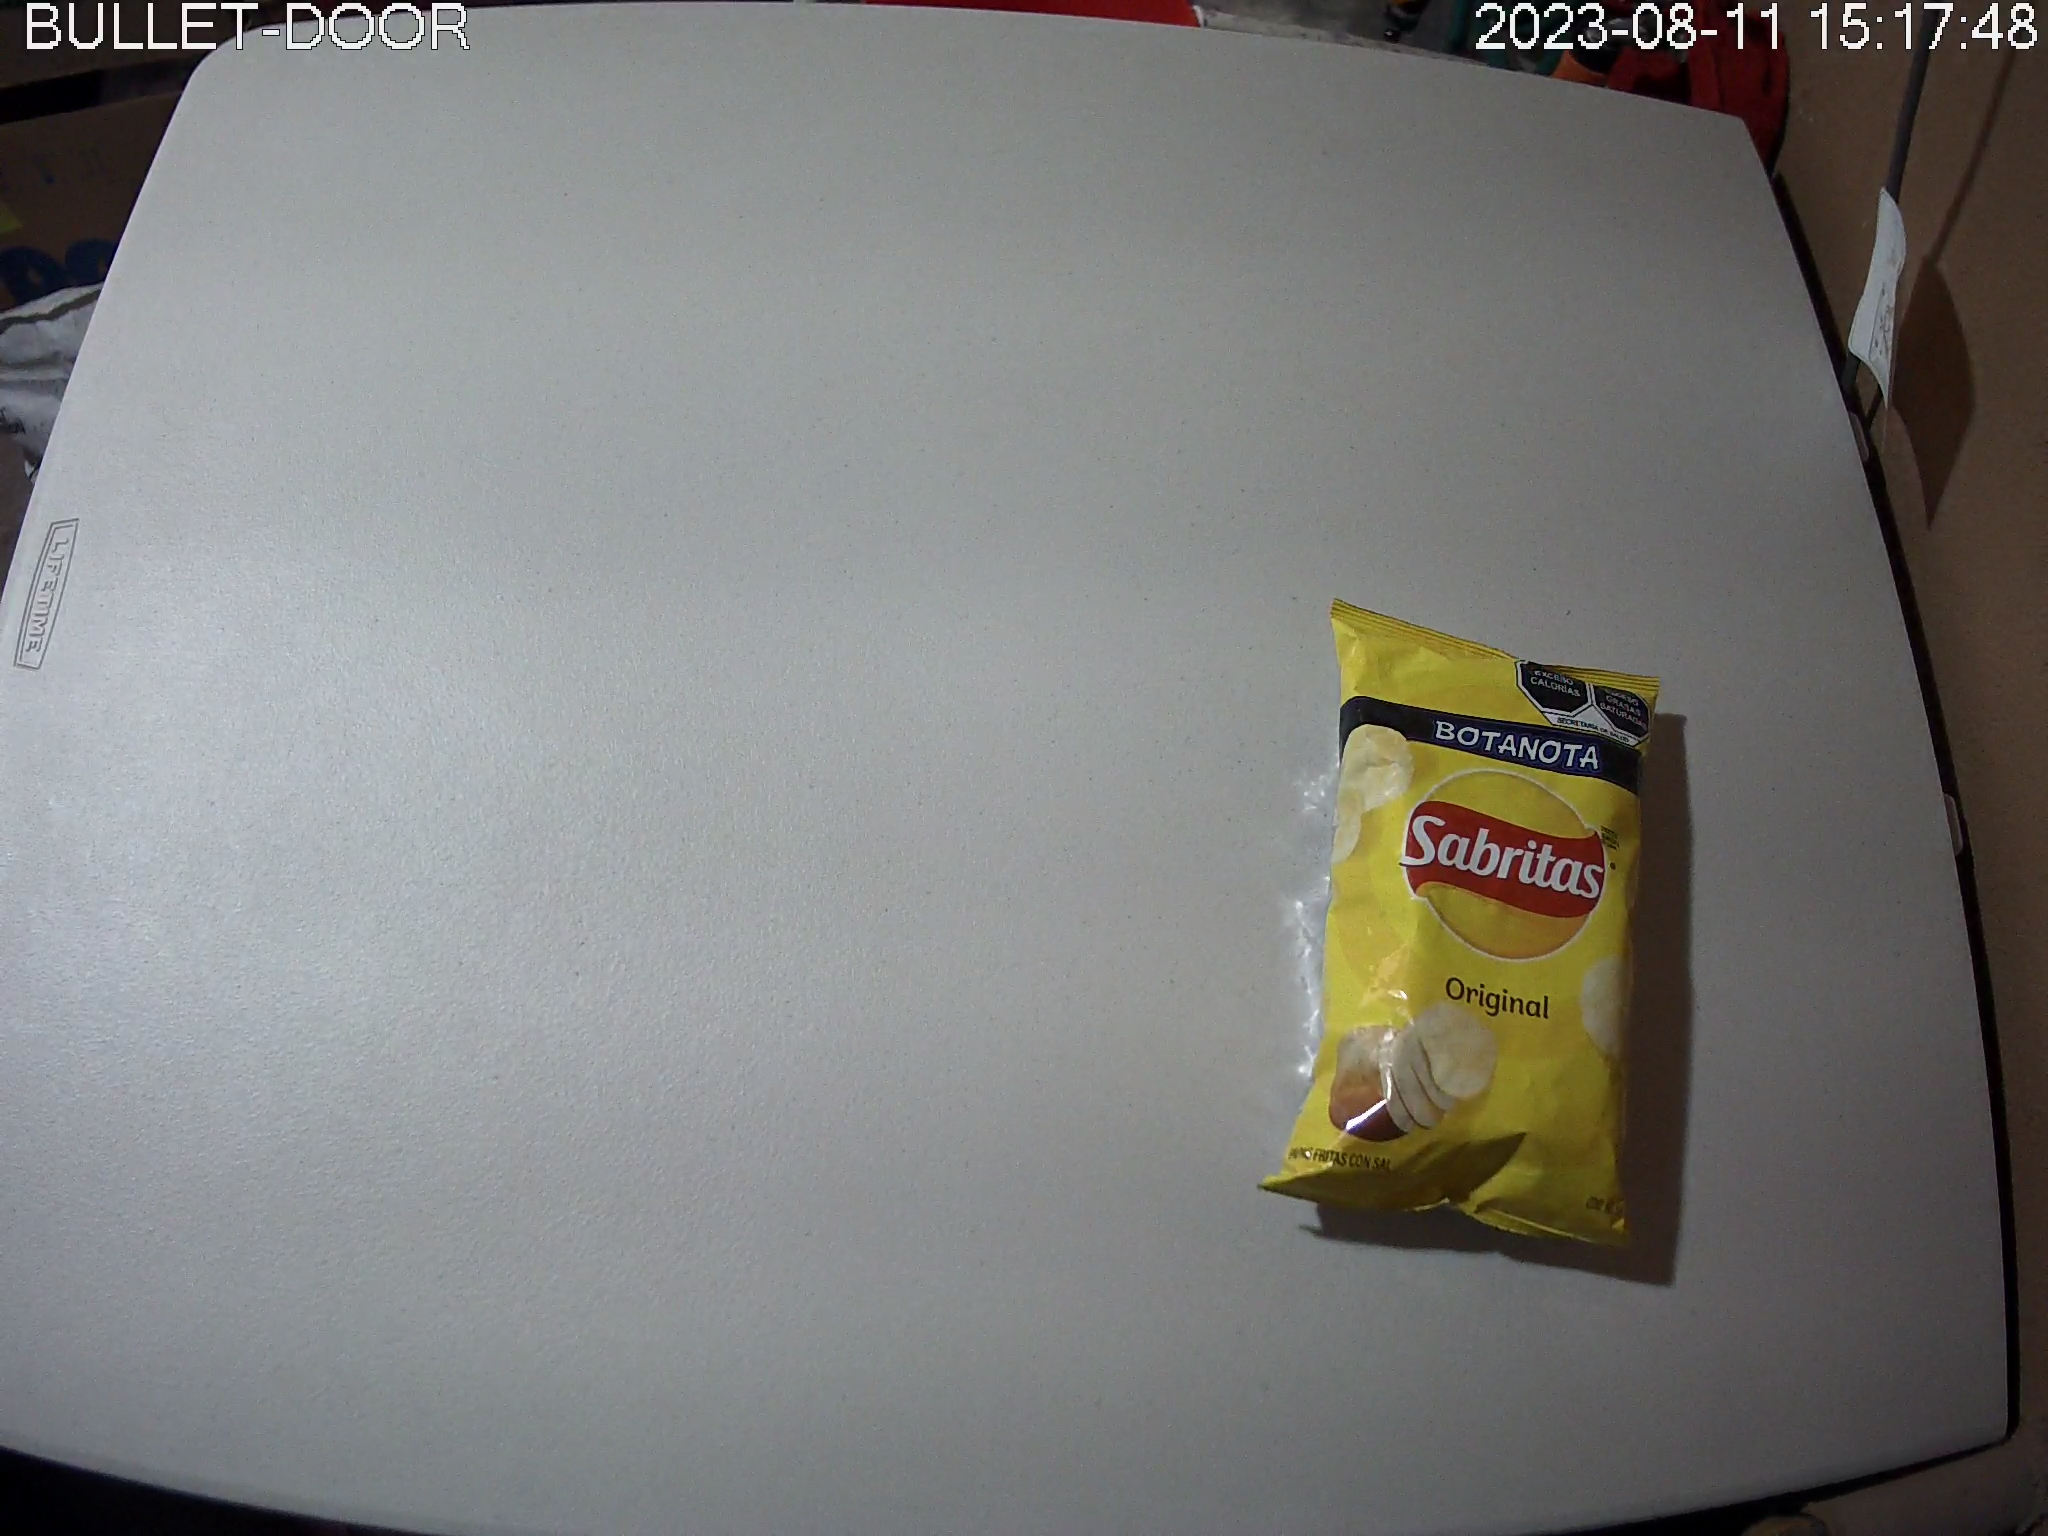Sabritas_64_F: (1255, 600, 1664, 1254)
